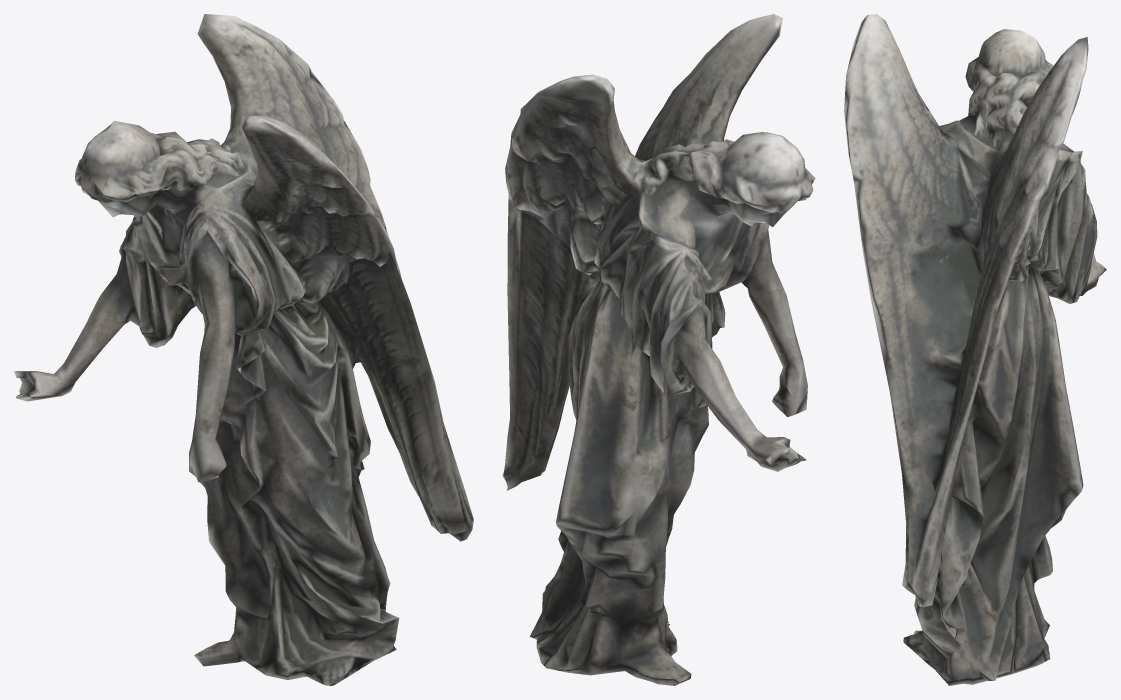
The model's file is statue.obj.
The picture shows the model from 3 angles, left to right: view 1: azimuth 30°, elevation 25°; view 2: azimuth 150°, elevation 25°; view 3: azimuth 270°, elevation 25°; orthographic projection. The views are drawn at different scales.
Parts seen in each view (by area): view 1: BG1_01_low; view 2: BG1_01_low; view 3: BG1_01_low.
Part boxes in pixels (bbox=[...]): BG1_01_low: bbox=[14, 14, 473, 685]; BG1_01_low: bbox=[502, 14, 815, 685]; BG1_01_low: bbox=[844, 14, 1106, 685].
Bounding box in the file's own units: 0.42 × 0.6518 × 0.2623.
